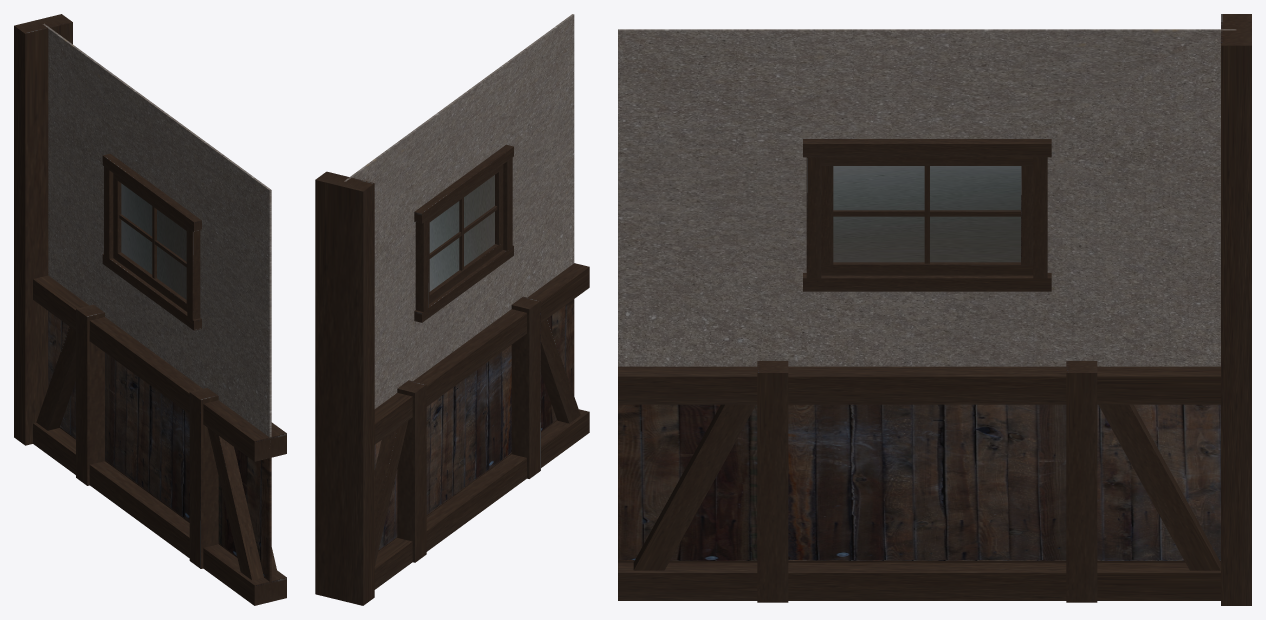
Rendered from OutdoorArchitecture_BasicWall04_Window03_RightEdge_BShortt.fbx.
3 views of the same model, side by side, from view 1: azimuth 30°, elevation 25°; view 2: azimuth 150°, elevation 25°; view 3: azimuth 270°, elevation 25° (orthographic). The views are drawn at different scales.
Visible parts, largest first — view 1: OutdoorArchitecture_BasicWall04_Window03_RightEdge_BShortt; view 2: OutdoorArchitecture_BasicWall04_Window03_RightEdge_BShortt; view 3: OutdoorArchitecture_BasicWall04_Window03_RightEdge_BShortt.
Part boxes in pixels (x1=…): OutdoorArchitecture_BasicWall04_Window03_RightEdge_BShortt: x1=14, y1=14, x2=286, y2=605; OutdoorArchitecture_BasicWall04_Window03_RightEdge_BShortt: x1=315, y1=14, x2=589, y2=605; OutdoorArchitecture_BasicWall04_Window03_RightEdge_BShortt: x1=618, y1=14, x2=1251, y2=605.
Bounding box in the file's own units: 36.37 × 300 × 308.
